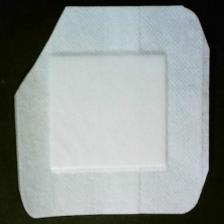Cut: (15, 6, 214, 220)
